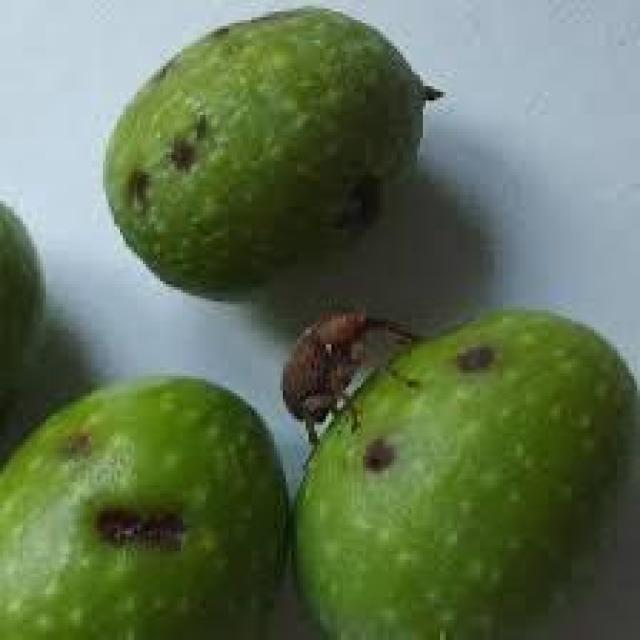Olive Fruit Fly: (300, 310, 634, 637), (106, 9, 434, 301), (0, 376, 286, 637)
